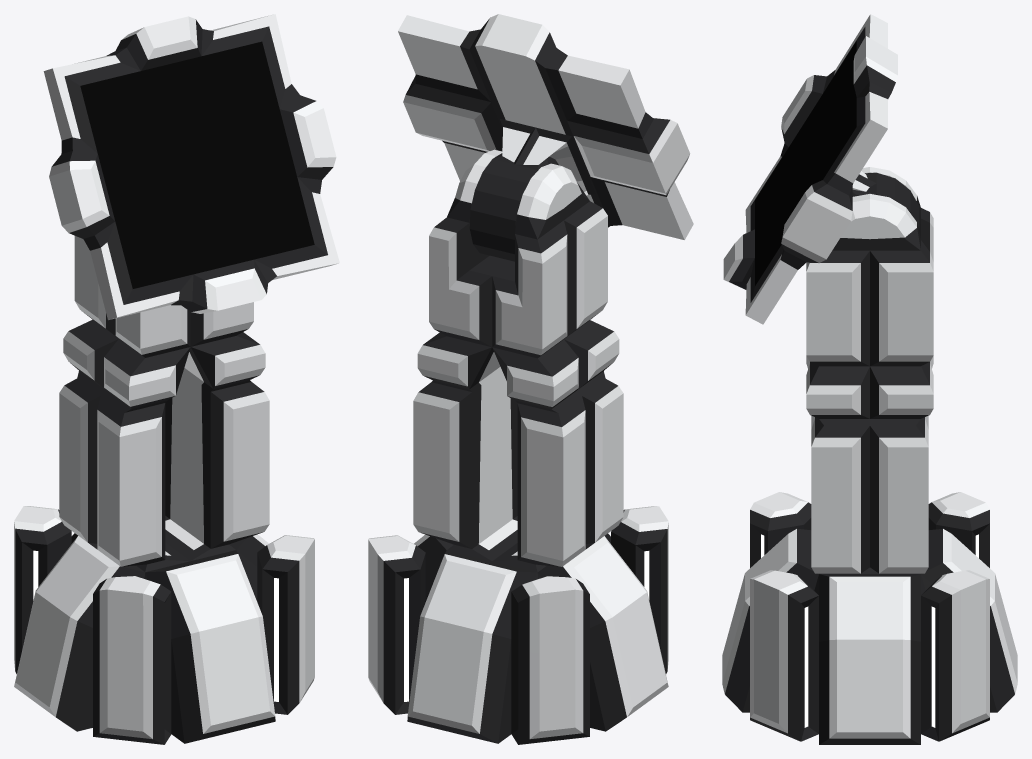
File: console.glb
The picture shows the model from 3 angles, left to right: view 1: azimuth 30°, elevation 25°; view 2: azimuth 150°, elevation 25°; view 3: azimuth 270°, elevation 25°; orthographic projection. The views are drawn at different scales.
Visible parts, largest first — view 1: UserTerminal_Body, UserTerminal_Display; view 2: UserTerminal_Body, UserTerminal_Display, UserTerminal_Neck; view 3: UserTerminal_Body, UserTerminal_Display, UserTerminal_Neck.
Part boxes in pixels (x1,y1,x2,y2): UserTerminal_Body: (14,236,314,744); UserTerminal_Display: (43,14,339,320); UserTerminal_Body: (368,149,668,744); UserTerminal_Display: (398,14,693,239); UserTerminal_Neck: (469,119,596,261); UserTerminal_Body: (722,167,1017,744); UserTerminal_Display: (723,14,897,324); UserTerminal_Neck: (852,171,920,237).
Bounding box in the file's own units: 58 × 140 × 58.
Materials: 1 (1 with a texture image).
